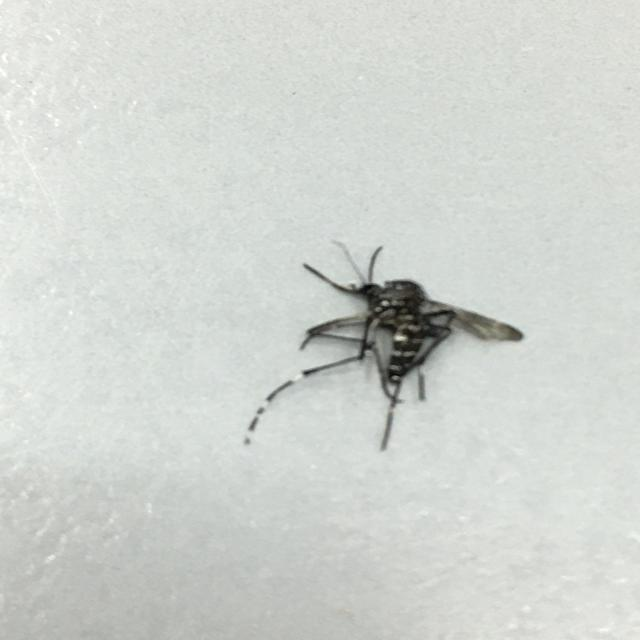albopictus: (229, 232, 520, 460)
